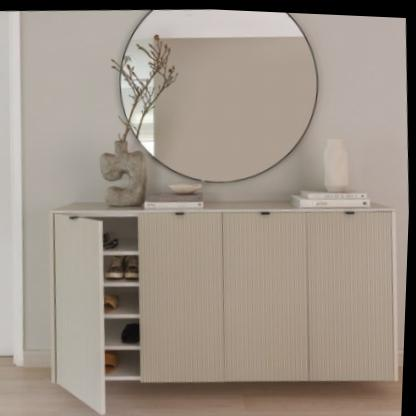Sideboard: (53, 190, 400, 413)
